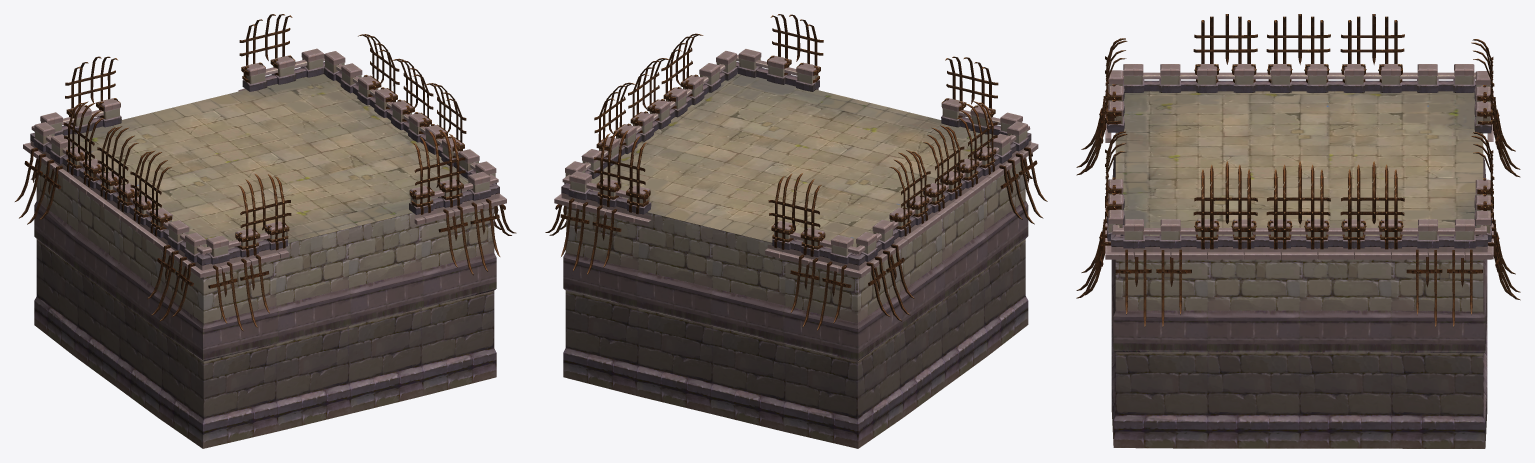
Rendered from pingtai20_02.FBX.
The picture shows the model from 3 angles, left to right: view 1: azimuth 30°, elevation 25°; view 2: azimuth 150°, elevation 25°; view 3: azimuth 270°, elevation 25°; orthographic projection. The views are drawn at different scales.
Visible parts, largest first — view 1: pingtai20_02; view 2: pingtai20_02; view 3: pingtai20_02.
Part boxes in pixels (bbox=[...]): pingtai20_02: bbox=[15, 14, 516, 448]; pingtai20_02: bbox=[545, 14, 1047, 448]; pingtai20_02: bbox=[1076, 14, 1520, 448].
Size of the model in its own units: 2429 by 1688 by 2417.
3 materials, 3 textured.
